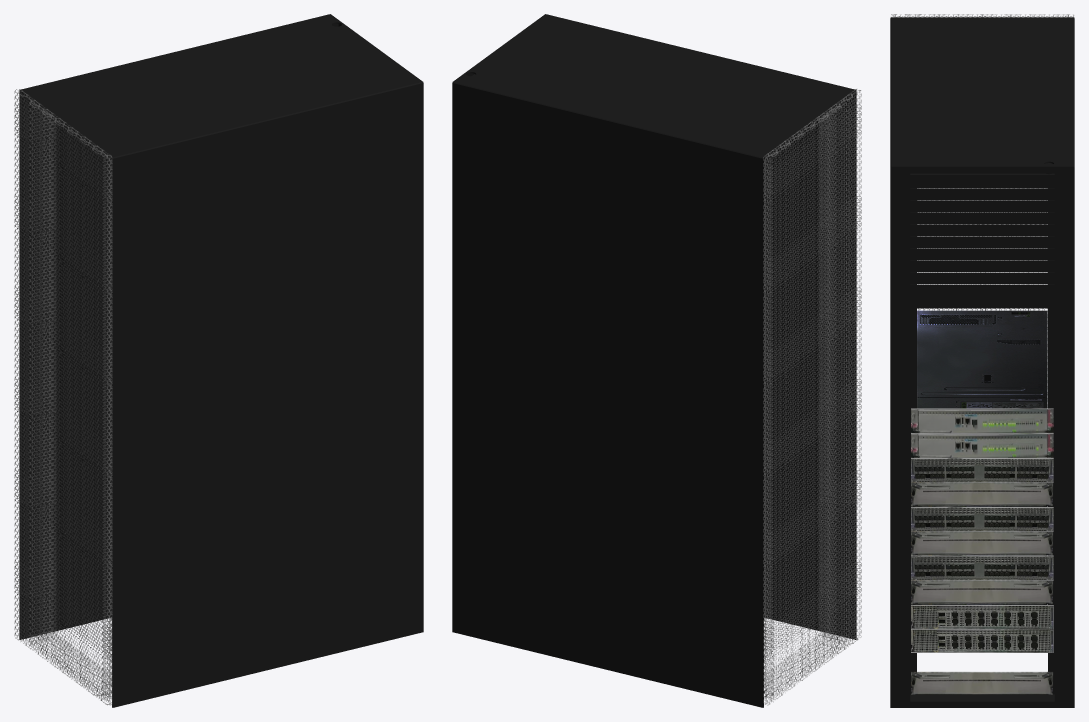
Rendered from 2号机柜.glb.
The picture shows the model from 3 angles, left to right: view 1: azimuth 30°, elevation 25°; view 2: azimuth 150°, elevation 25°; view 3: azimuth 270°, elevation 25°; orthographic projection.
Parts seen in each view (by area): view 1: 机身; view 2: 机身; view 3: 机身, FWQ_X3650M5_3999, FWQ_X3650M5_4003, FWQ_X3650M5_4002, FWQ_X3650M5_4000, FWQ_X3650M5_4001, FWQ_X3650M5_4005, FWQ_X3650M5_4004.
Part boxes in pixels (<box>): 机身: <box>14,14,423,707</box>; 机身: <box>452,14,861,707</box>; 机身: <box>890,14,1074,707</box>; FWQ_X3650M5_3999: <box>911,310,1053,433</box>; FWQ_X3650M5_4003: <box>911,531,1053,580</box>; FWQ_X3650M5_4002: <box>911,482,1053,531</box>; FWQ_X3650M5_4000: <box>911,603,1053,629</box>; FWQ_X3650M5_4001: <box>911,433,1053,457</box>; FWQ_X3650M5_4005: <box>911,458,1053,482</box>; FWQ_X3650M5_4004: <box>911,628,1053,652</box>.
Size of the model in its own units: 1.2 by 2 by 0.6142.
Materials: 7 (6 with a texture image).
